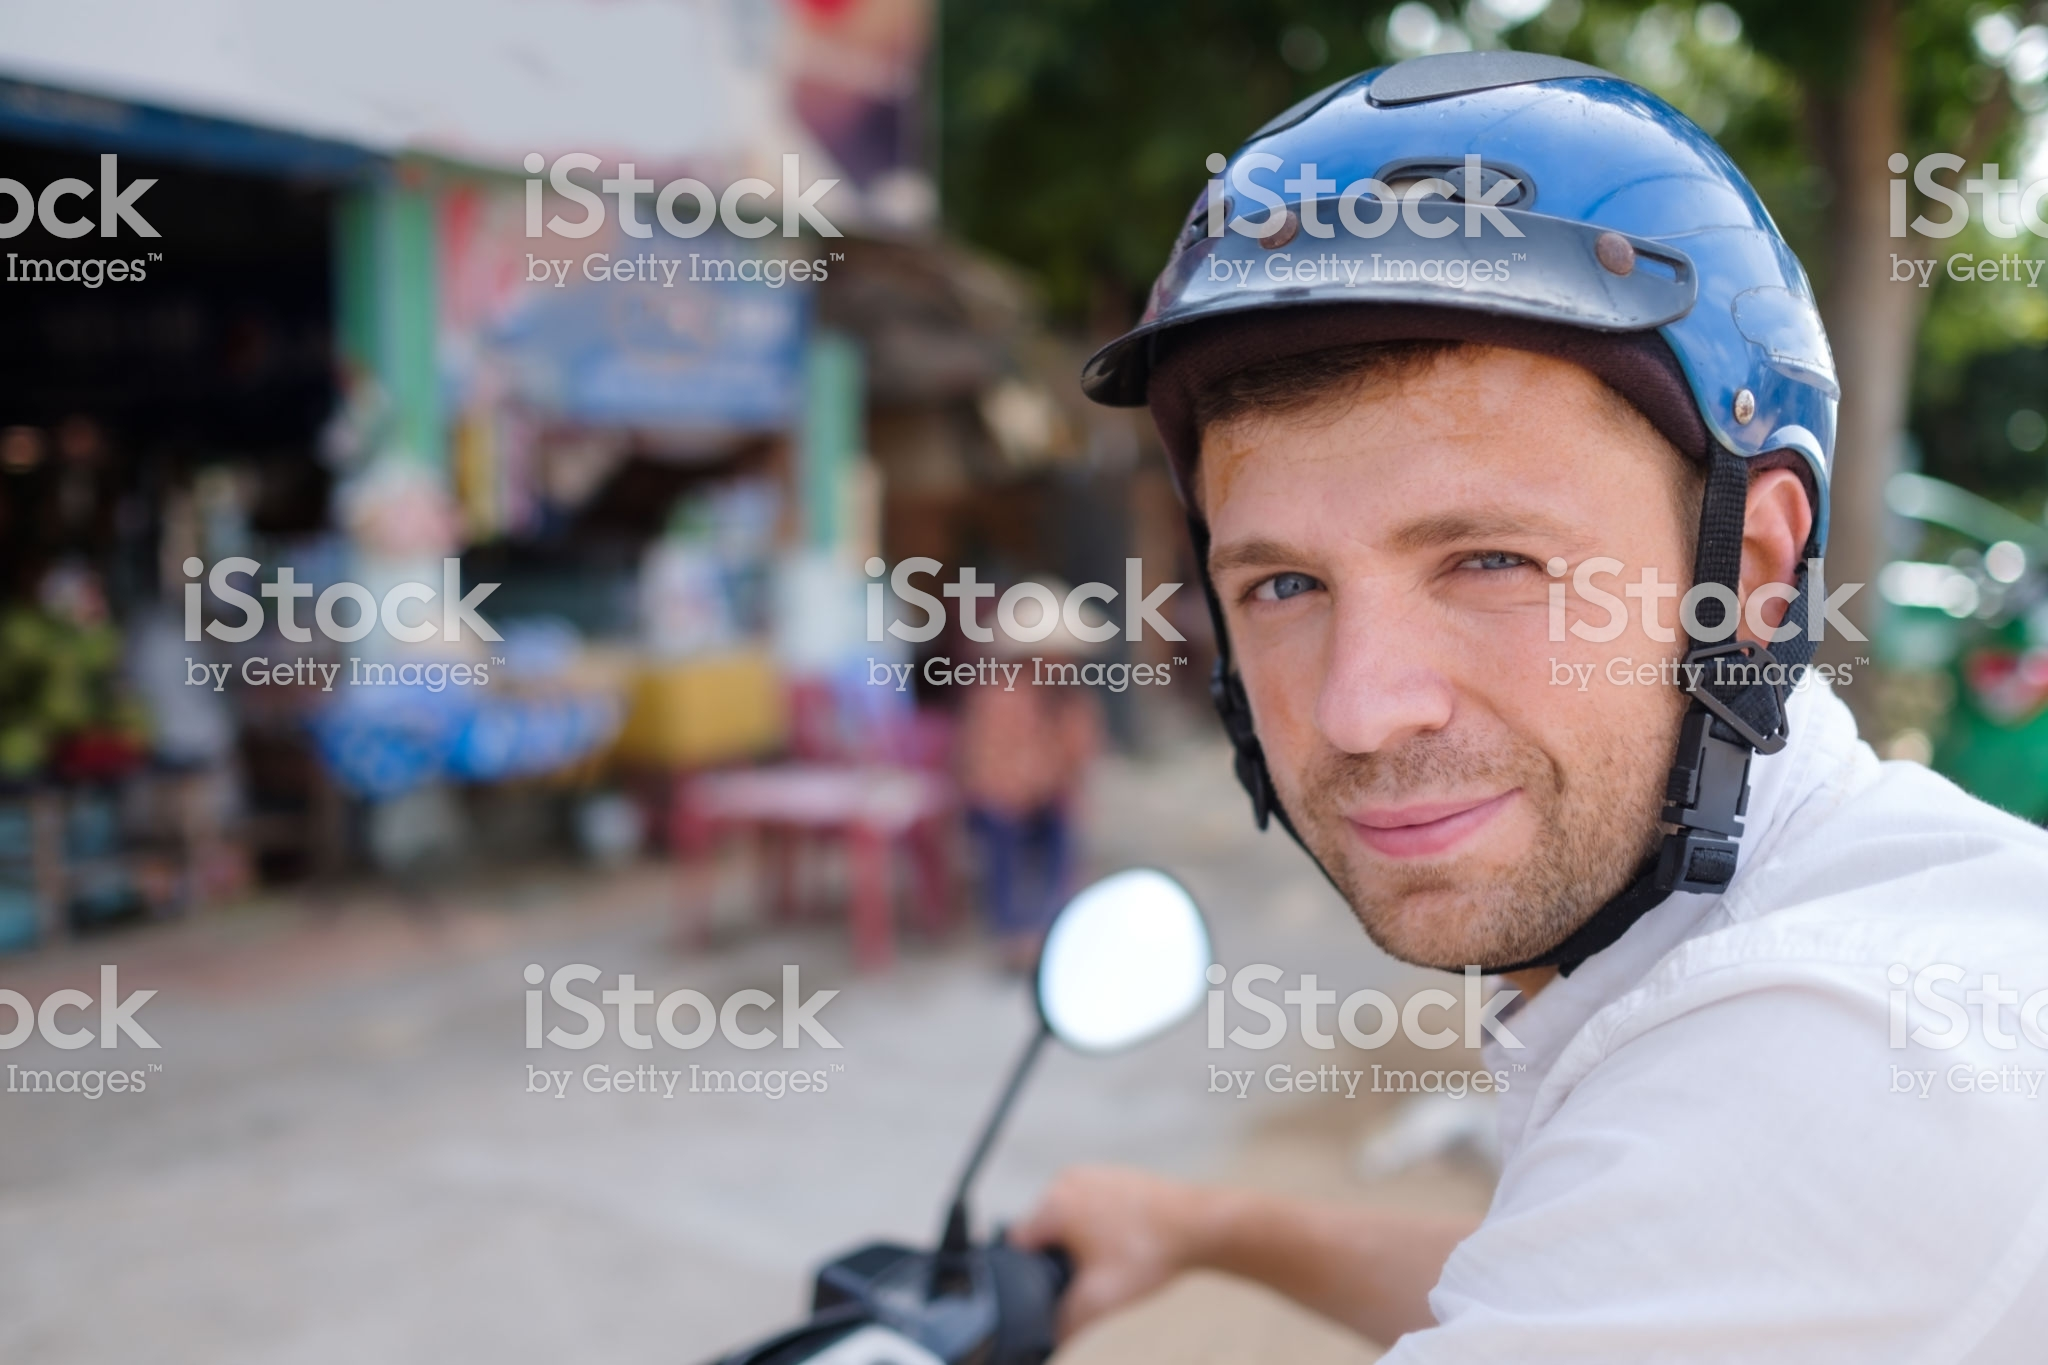helmet: (1137, 94, 1887, 550)
